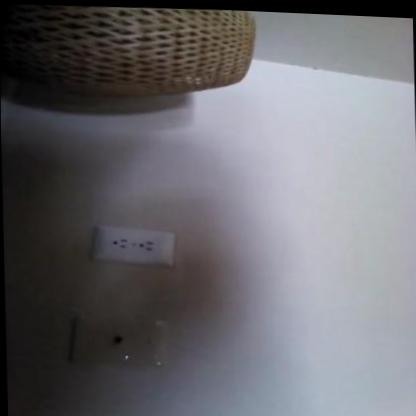OUTLET: (91, 225, 173, 266)
